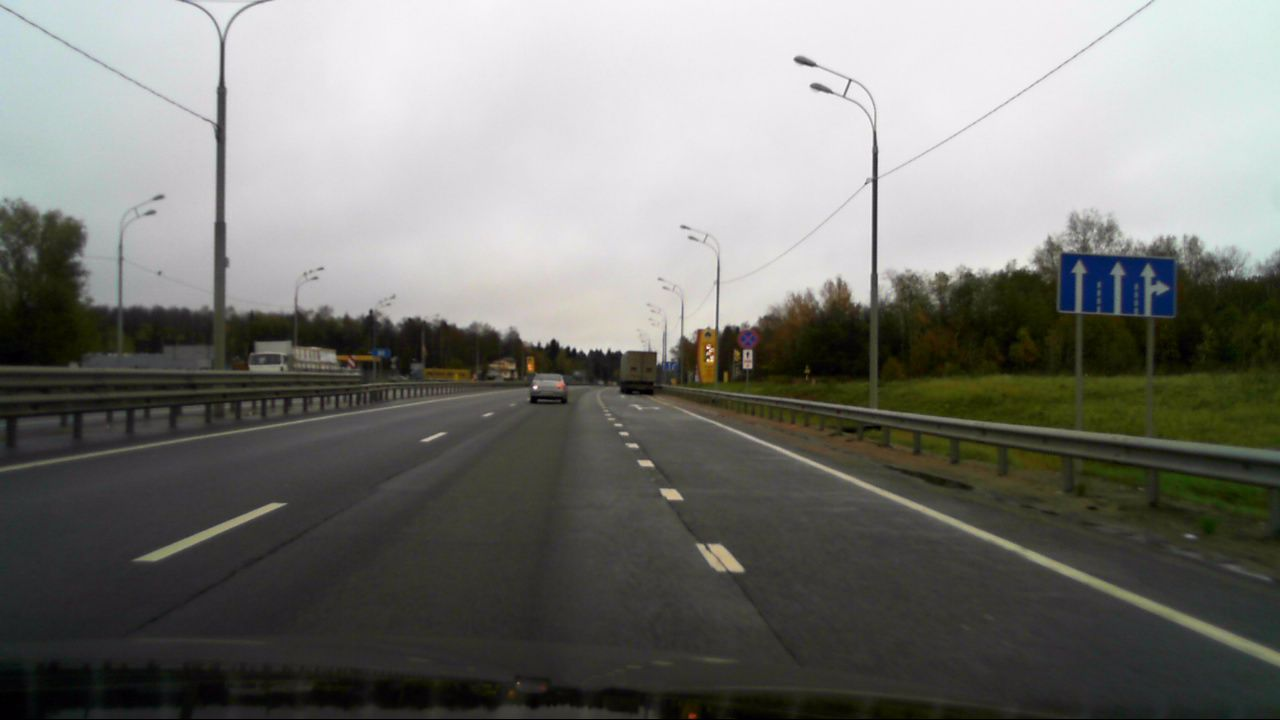No Parking: (738, 329, 757, 347)
